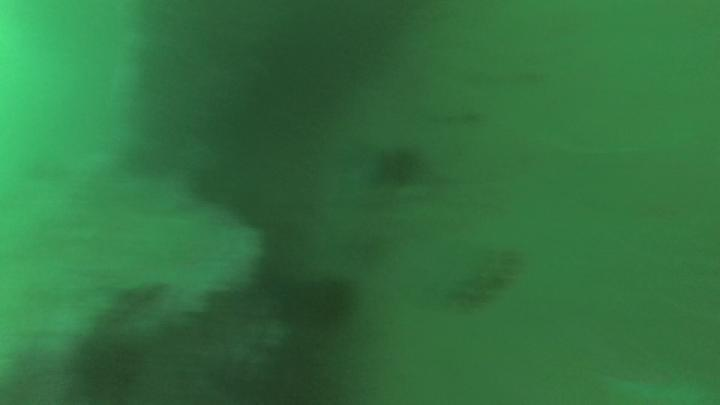holothurian: (446, 240, 529, 318)
